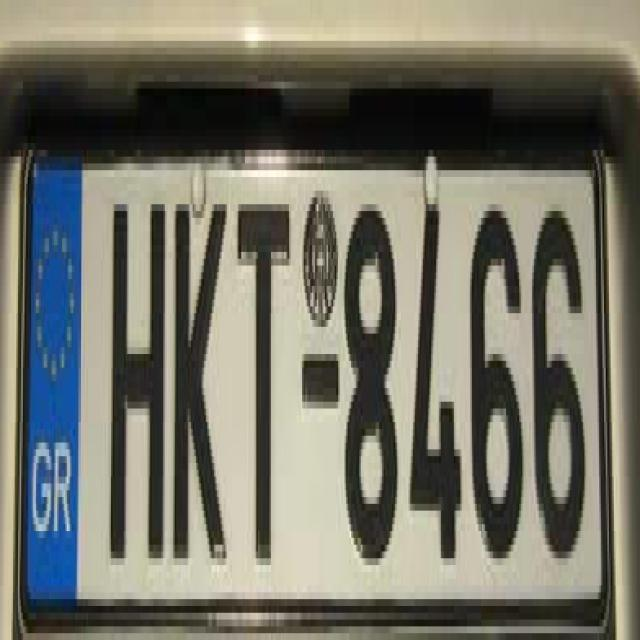EU: (15, 137, 602, 630)
Grece: (20, 148, 84, 609)
